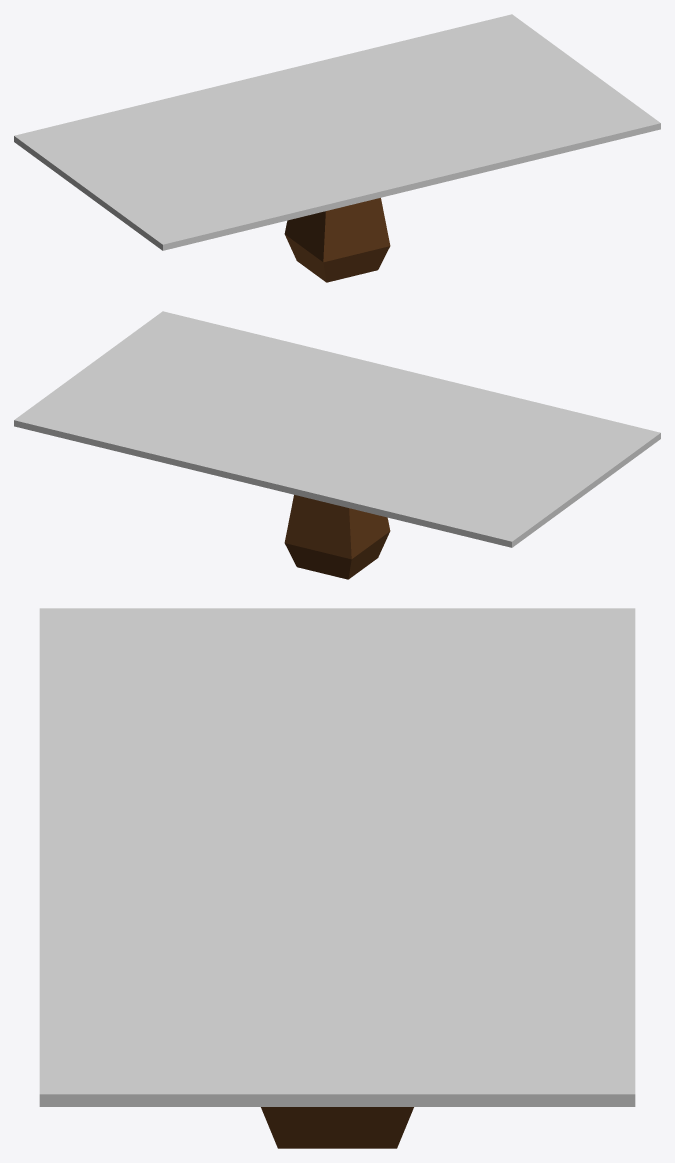
File: Meja.fbx
3 views of the same model, one above another, from view 1: azimuth 30°, elevation 25°; view 2: azimuth 150°, elevation 25°; view 3: azimuth 270°, elevation 25° (orthographic). The views are drawn at different scales.
Visible parts, largest first — view 1: Cube, Cube.001; view 2: Cube, Cube.001; view 3: Cube, Cube.001.
Part boxes in pixels (x1,y1,x2,y2): Cube: (14,14,660,250); Cube.001: (284,198,390,282); Cube: (14,311,660,547); Cube.001: (284,495,390,579); Cube: (39,608,635,1106); Cube.001: (261,1107,413,1148).
Bounding box in the file's own units: 957 × 250 × 495.
